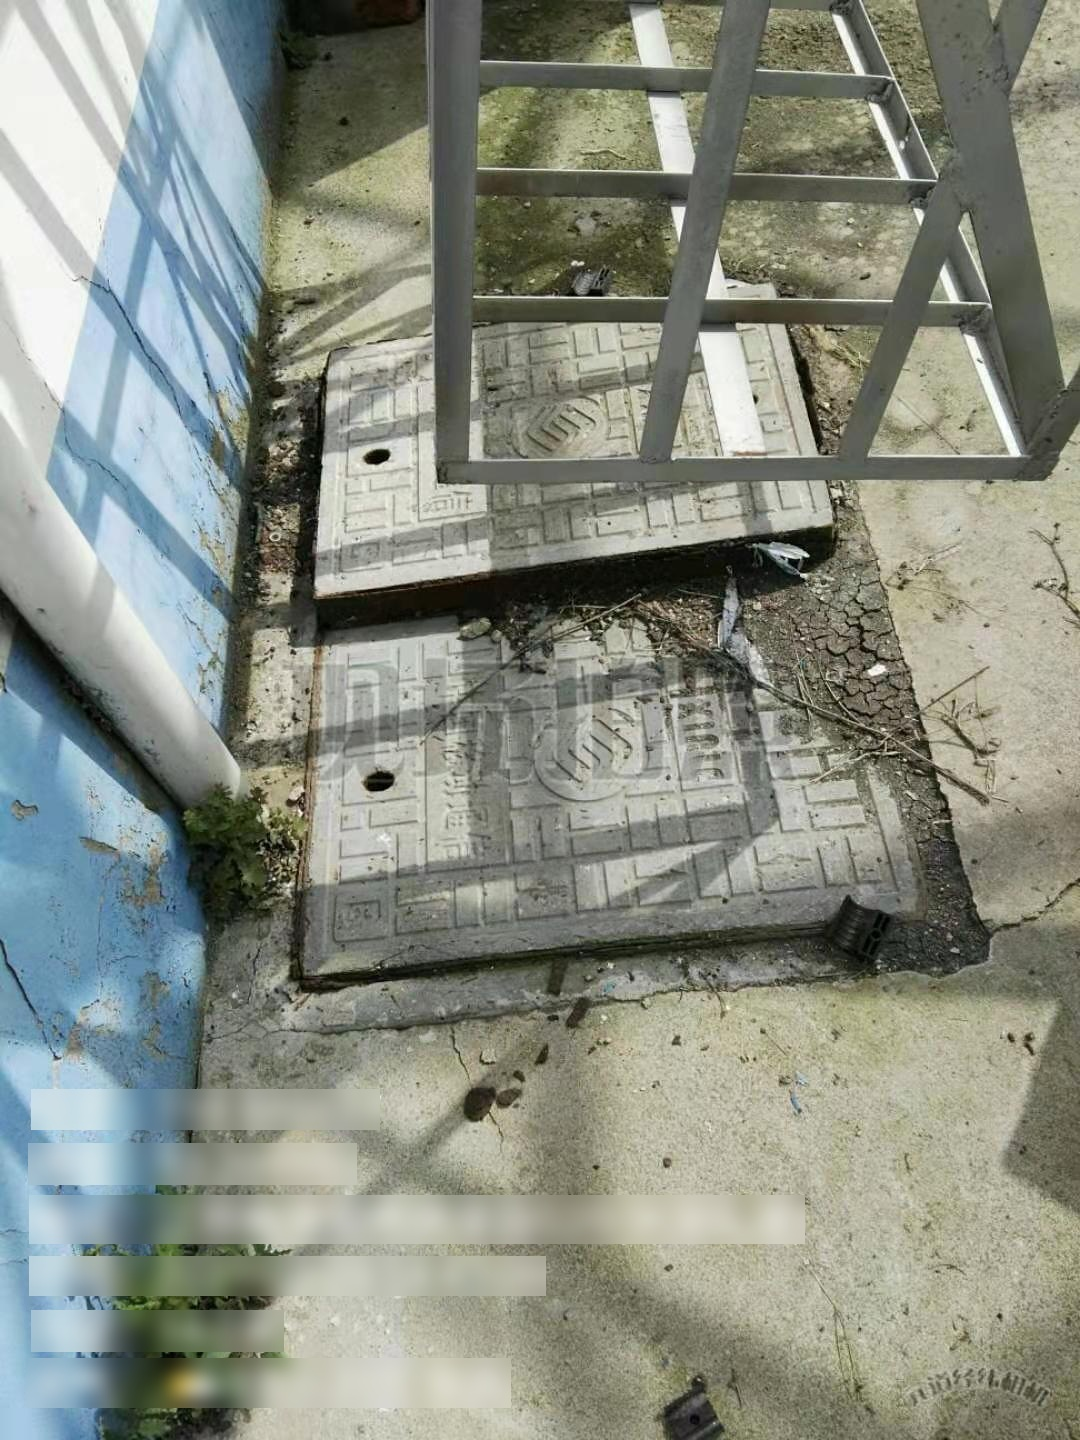uncovered: (286, 293, 981, 1019)
